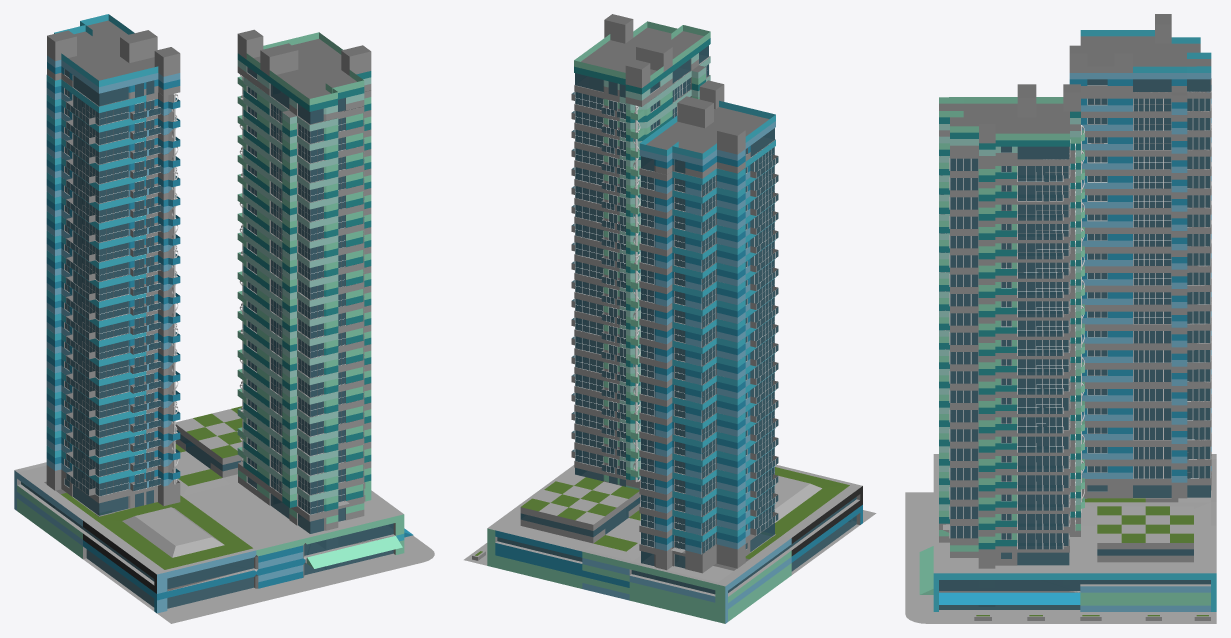
File: architectural_highrise_concept.glb
3 renders of one model, left to right at view 1: azimuth 30°, elevation 25°; view 2: azimuth 150°, elevation 25°; view 3: azimuth 270°, elevation 25°, orthographic. The views are drawn at different scales.
Visible parts, largest first — view 1: Plane.005, Plane.008, Plane, Plane.006, Plane.009, Plane.004, Plane.007, Cylinder, Cylinder.001; view 2: Plane.008, Plane, Plane.005, Plane.009, Plane.006, Plane.007, Cylinder.001, Plane.004; view 3: Plane.005, Plane.008, Plane, Plane.006, Plane.009, Plane.004, Plane.007, Cylinder.001.
Part boxes in pixels (x1,y1,x2,y2): Plane.005: [237, 76, 371, 515]; Plane.008: [46, 75, 180, 496]; Plane: [14, 406, 434, 623]; Plane.006: [237, 29, 371, 124]; Plane.009: [47, 14, 180, 106]; Plane.004: [238, 462, 371, 534]; Plane.007: [46, 465, 180, 516]; Cylinder: [171, 93, 178, 484]; Cylinder.001: [239, 74, 243, 461]; Plane.008: [639, 140, 778, 554]; Plane: [464, 465, 876, 623]; Plane.005: [571, 56, 710, 480]; Plane.009: [639, 80, 775, 178]; Plane.006: [574, 14, 710, 106]; Plane.007: [639, 522, 775, 573]; Cylinder.001: [633, 105, 640, 482]; Plane.004: [574, 461, 640, 500]; Plane.005: [939, 130, 1084, 549]; Plane.008: [1081, 78, 1211, 482]; Plane: [905, 454, 1216, 623]; Plane.006: [939, 84, 1080, 162]; Plane.009: [1069, 14, 1211, 95]; Plane.004: [939, 517, 1080, 568]; Plane.007: [1082, 479, 1211, 498]; Cylinder.001: [1081, 125, 1084, 512].
Size of the model in its own units: 43.89 by 75.17 by 43.89.
